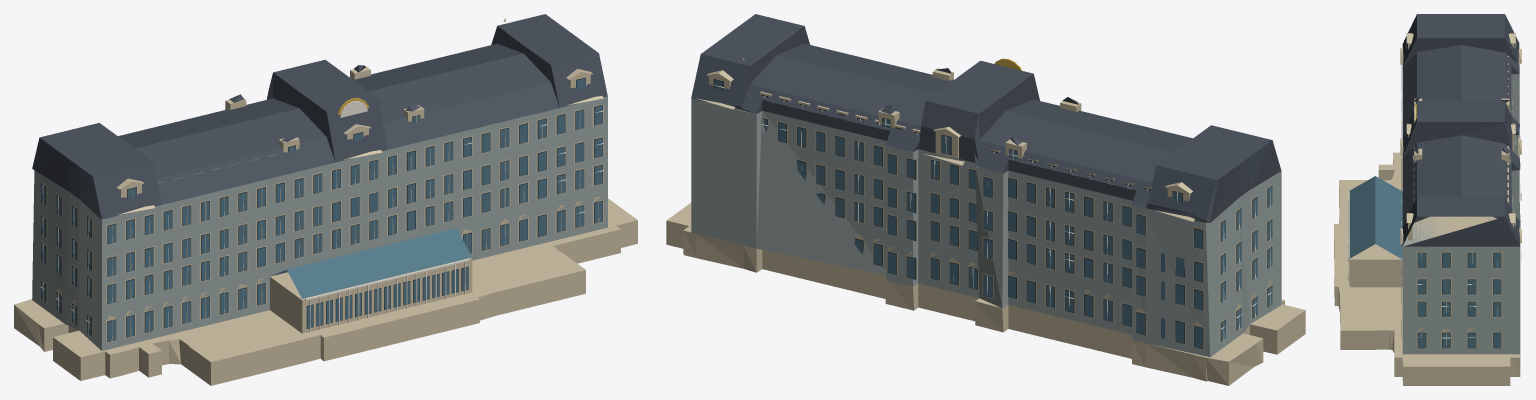
The model's file is amstel-hotel.lod1.glb.
3 renders of one model, left to right at view 1: azimuth 30°, elevation 25°; view 2: azimuth 150°, elevation 25°; view 3: azimuth 270°, elevation 25°, orthographic. The views are drawn at different scales.
Visible parts, largest first — view 1: amstel-hotel; view 2: amstel-hotel; view 3: amstel-hotel.
Part boxes in pixels (x1,y1,x2,y2): amstel-hotel: (14,14,637,385); amstel-hotel: (666,14,1305,385); amstel-hotel: (1334,14,1521,385).
Size of the model in its own units: 86.58 by 30.65 by 30.74.
